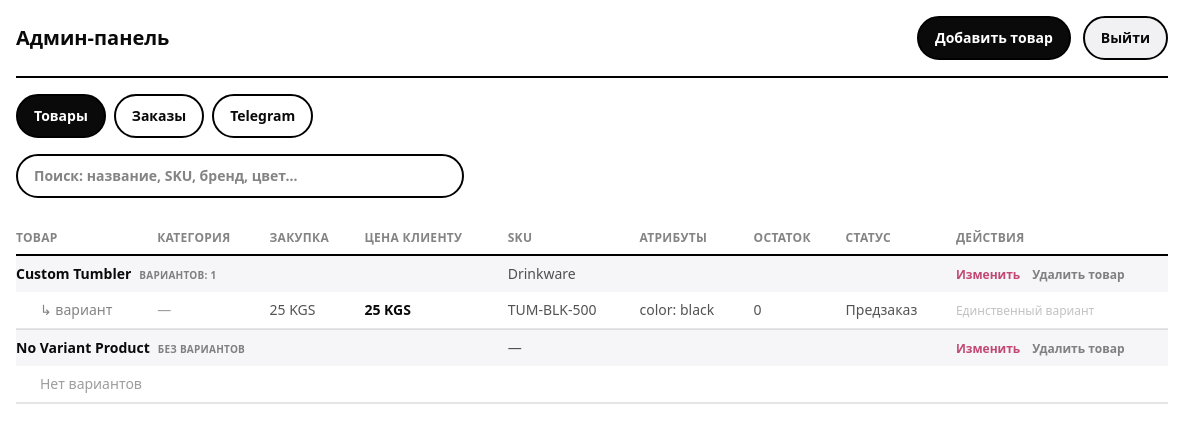
Test case: AdminDashboard › shows an error when fetching orders fails
The width and height of the screenshot is (1185, 421).
Click the button "Заказы": (159, 116) [114,94,204,138]
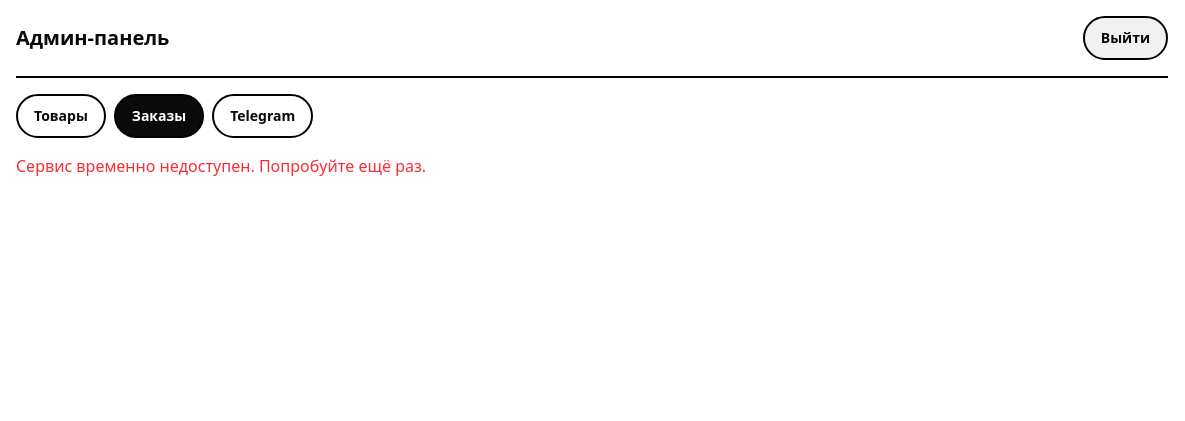
Expected: the text "Сервис временно недоступен. Попробуйте ещё раз." is shown, [16,155,426,177]
